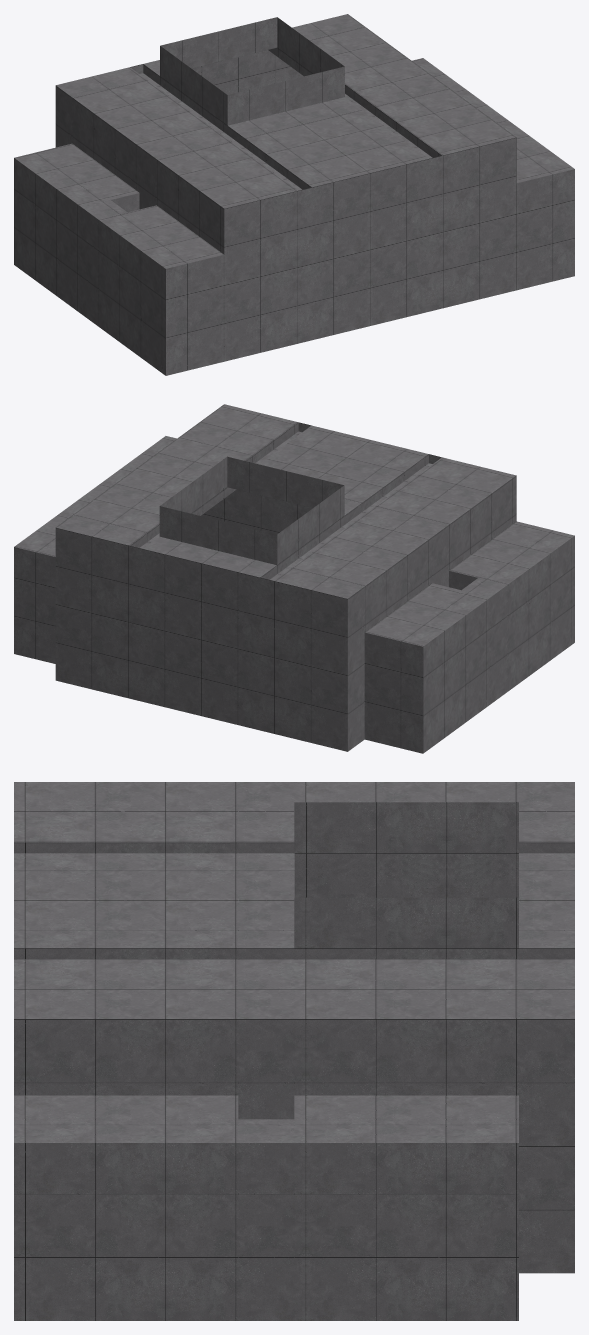
Rendered from demo-room.glb.
3 renders of one model, top to bottom at view 1: azimuth 30°, elevation 25°; view 2: azimuth 150°, elevation 25°; view 3: azimuth 270°, elevation 25°, orthographic. The views are drawn at different scales.
Parts seen in each view (by area): view 1: Cube; view 2: Cube; view 3: Cube.
Boxes of the visible parts, bbox=[...] form: Cube: bbox=[14, 14, 574, 375]; Cube: bbox=[14, 404, 574, 753]; Cube: bbox=[14, 782, 574, 1320].
Bounding box in the file's own units: 14 × 6 × 10.
1 material, 1 textured.
